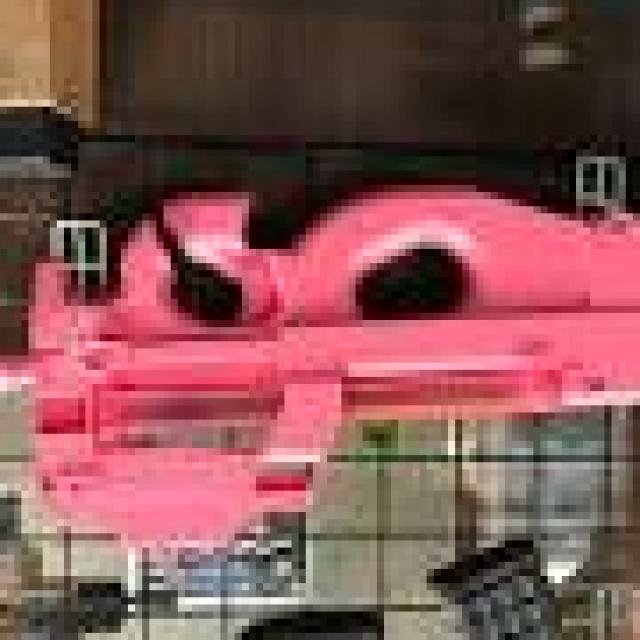Gun: (0, 177, 640, 584)
